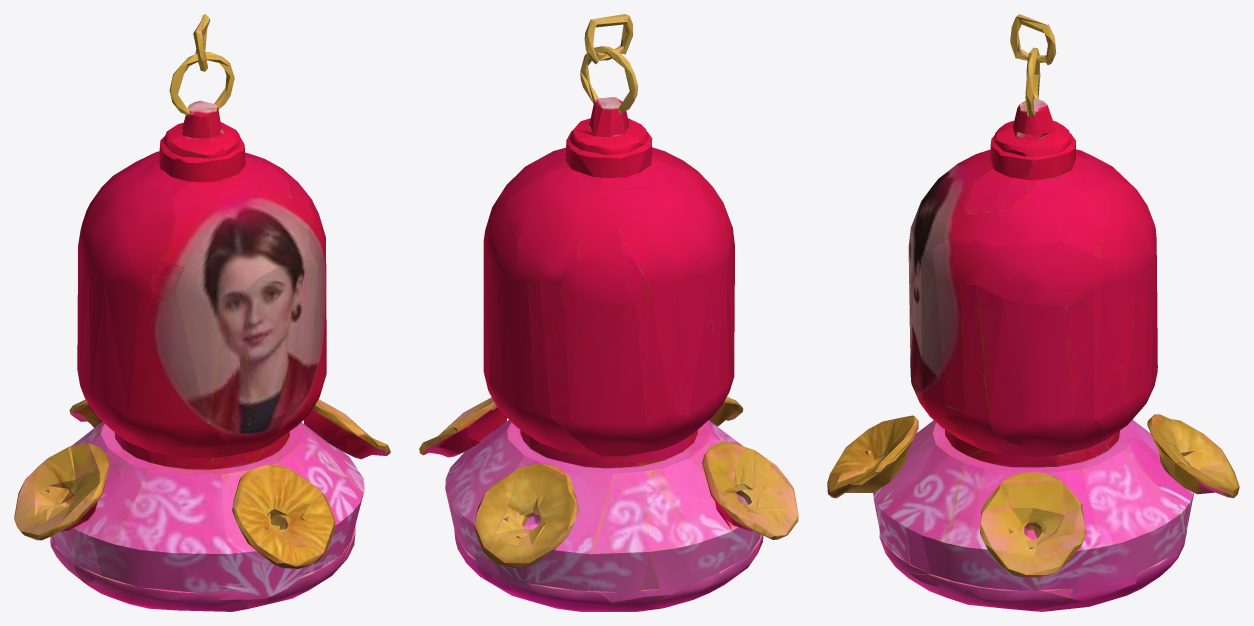
The picture shows the model from 3 angles, left to right: view 1: azimuth 30°, elevation 25°; view 2: azimuth 150°, elevation 25°; view 3: azimuth 270°, elevation 25°; orthographic projection.
Bounding box in the file's own units: 0.6921 × 1 × 0.6908.
Materials: 1 (1 with a texture image).
